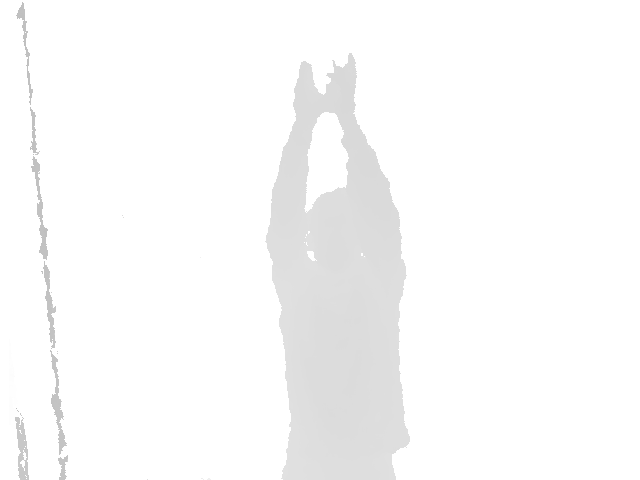hand: (323, 53, 358, 120), (293, 60, 327, 121)
head: (305, 188, 373, 267)
person: (265, 53, 411, 480)
